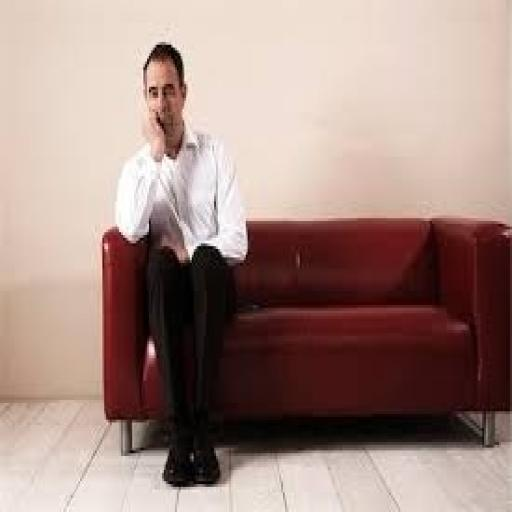sitting: (114, 39, 250, 487)
